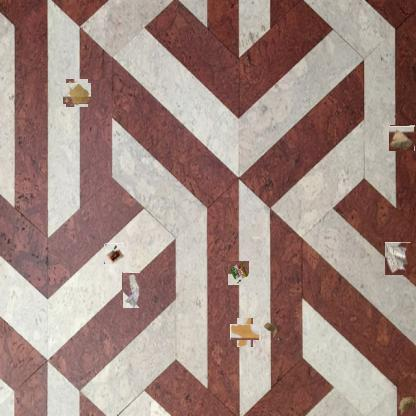dirty: (386, 242, 412, 275), (122, 272, 140, 308), (390, 126, 415, 151), (227, 262, 249, 284), (104, 244, 125, 264), (397, 394, 415, 416), (262, 320, 278, 340)
liquid: (64, 81, 90, 105), (234, 321, 256, 344)
